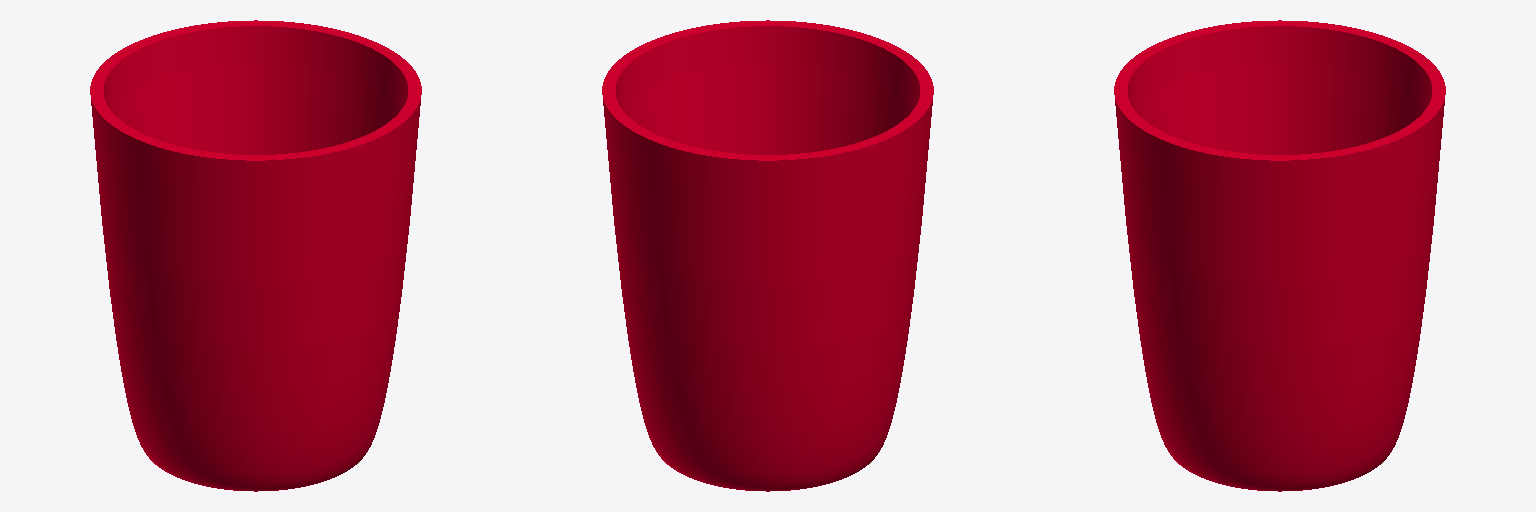
robot.urdf — cup:
<robot name="cup">
	<link name="_name">
		<visual>
			<origin xyz="-2.390324180547668e-05 -9.105299384964332e-07 -0.028380496314458378" rpy="0 0 0" />
			<geometry>
				<mesh filename="cup.obj" scale="0.85 0.85 0.85" />
			</geometry>
       		<material name="red">
        		<color rgba="0.9 0 0.2 1.0"/>
      		</material>
		</visual>
		<collision>
			<geometry>
				<mesh filename="cup_vhacd.obj" scale="0.85 0.85 0.85" />
			</geometry>
		<origin xyz="-2.390324180547668e-05 -9.105299384964332e-07 -0.028380496314458378" rpy="0 0 0" /></collision>
		<inertial>
			<mass value="1.0" />
			<inertia ixx="1.0" ixy="0.0" ixz="0.0" iyy="1.0" iyz="0.0" izz="1.0" />
		</inertial>
	</link>
</robot>

--- Facts derived from the render (not from the file) ---
Views: 3 orthographic renders of the robot side by side, from view 1: azimuth 30°, elevation 25°; view 2: azimuth 150°, elevation 25°; view 3: azimuth 270°, elevation 25°.
Model cup with 1 links and 0 joints (none), rooted at _name, posed all joints at 0.
Visible links, largest first — view 1: _name; view 2: _name; view 3: _name.
Link boxes in pixels (box(x1,y1,x2,y2)): _name: box(90, 20, 421, 491); _name: box(602, 20, 933, 491); _name: box(1114, 20, 1445, 491).
Size in the robot's own frame: 0.0553 by 0.0553 by 0.0653 metres.
Meshes: 1 distinct files referenced, 1 mesh visuals loaded (1 OBJ).
